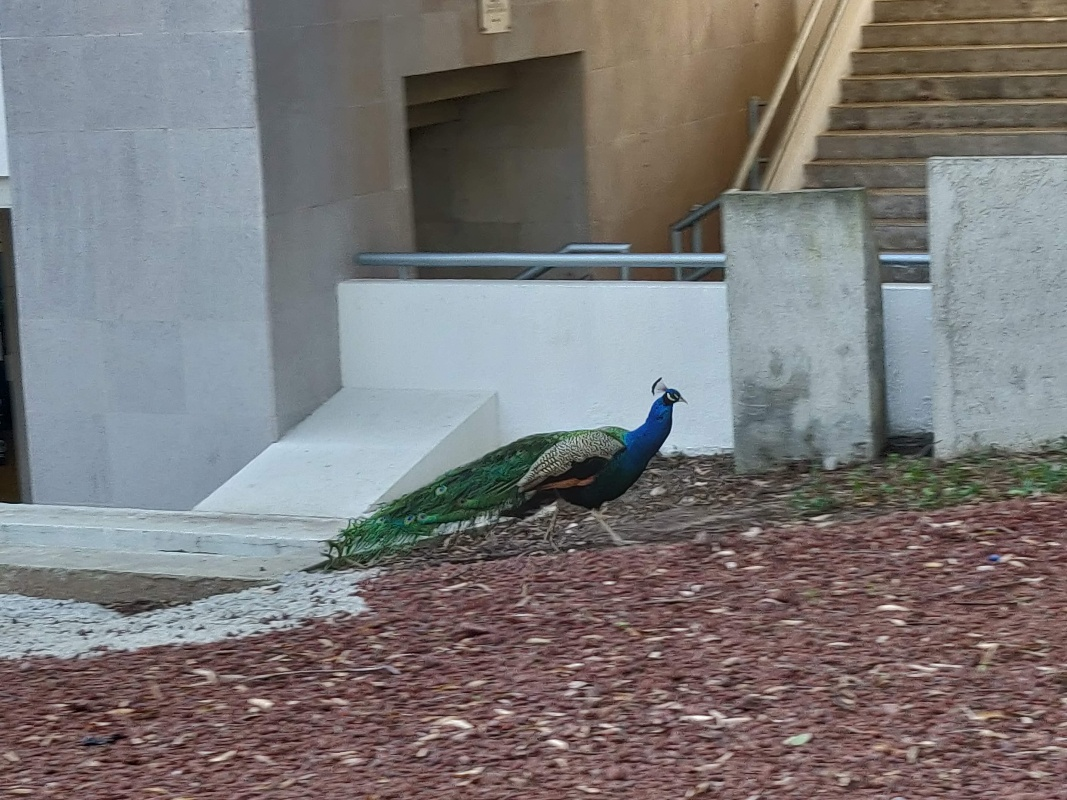pavoreal: (528, 377, 679, 534)
